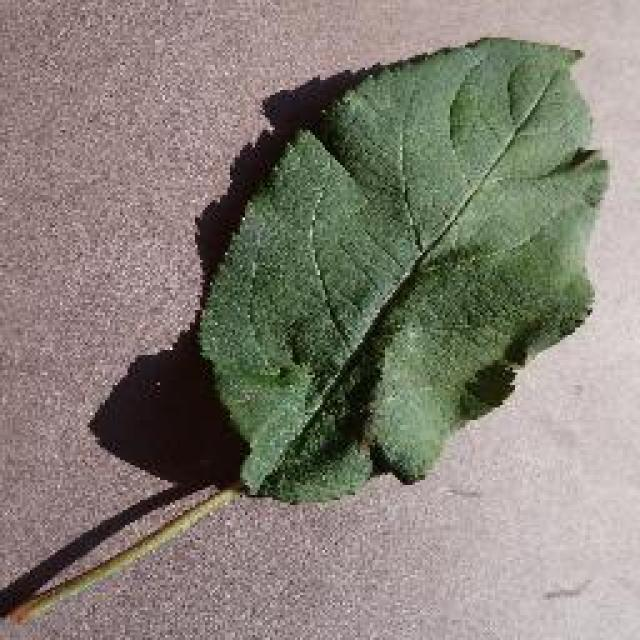Apple___healthy: (195, 34, 612, 507)
